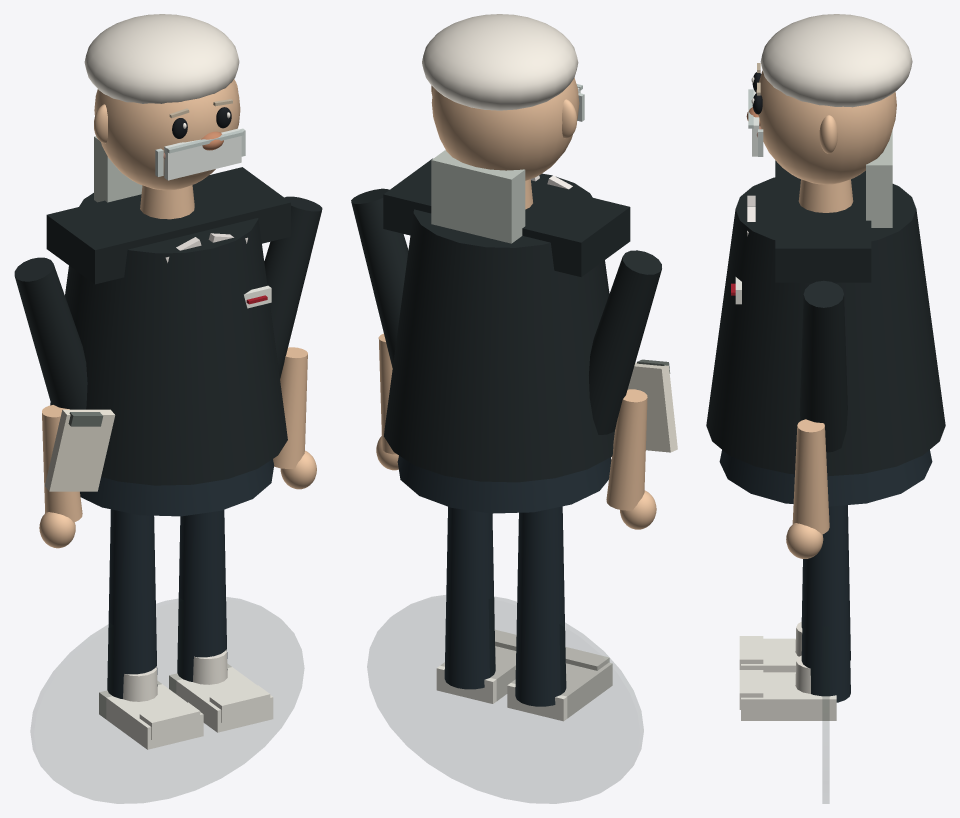
Rendered from staff_08_stock.glb.
3 views of the same model, side by side, from view 1: azimuth 30°, elevation 25°; view 2: azimuth 150°, elevation 25°; view 3: azimuth 270°, elevation 25° (orthographic). The views are drawn at different scales.
Visible parts, largest first — view 1: torso, contact_shadow, shoulder_line, covered_hair, leg_-0.075, head, leg_0.075, upper_arm_-0.235, hip, upper_arm_0.235, clipboard, shoe_-0.075 (+12 smaller); view 2: torso, contact_shadow, covered_hair, leg_-0.075, shoulder_line, leg_0.075, head, upper_arm_-0.235, scarf_tail, hip, upper_arm_0.235, forearm_-0.235 (+6 smaller); view 3: torso, covered_hair, head, shoulder_line, leg_0.075, upper_arm_0.235, hip, forearm_0.235, shoe_0.075, scarf_tail, neck, shoe_-0.075 (+6 smaller).
Boxes of the visible parts, x1,y1,x2,y2 form: torso: (50, 193, 287, 485); contact_shadow: (31, 597, 303, 803); shoulder_line: (46, 167, 290, 284); covered_hair: (84, 14, 239, 103); leg_-0.075: (107, 509, 157, 698); head: (94, 79, 240, 190); leg_0.075: (177, 510, 227, 681); upper_arm_-0.235: (14, 257, 87, 409); hip: (80, 459, 274, 516); upper_arm_0.235: (264, 196, 322, 378); clipboard: (45, 409, 115, 491); shoe_-0.075: (99, 680, 203, 749); torso: (384, 173, 614, 482); contact_shadow: (367, 595, 643, 803); covered_hair: (422, 14, 578, 110); leg_-0.075: (515, 506, 566, 706); shoulder_line: (383, 158, 630, 277); leg_0.075: (444, 506, 495, 689); head: (431, 78, 579, 180); upper_arm_-0.235: (589, 250, 661, 434); scarf_tail: (431, 150, 525, 243); hip: (397, 455, 611, 513); upper_arm_0.235: (351, 188, 408, 367); forearm_-0.235: (606, 389, 647, 510); torso: (706, 177, 945, 476); covered_hair: (760, 14, 912, 107); head: (756, 70, 896, 184); shoulder_line: (775, 160, 871, 282); leg_0.075: (801, 505, 850, 702); upper_arm_0.235: (799, 280, 847, 452); hip: (719, 450, 932, 506); forearm_0.235: (792, 419, 829, 534); shoe_0.075: (741, 672, 836, 720); scarf_tail: (866, 130, 892, 227); neck: (798, 179, 853, 212); shoe_-0.075: (741, 638, 798, 672).
Bounding box in the file's own units: 0.6685 × 1.62 × 0.4635.
